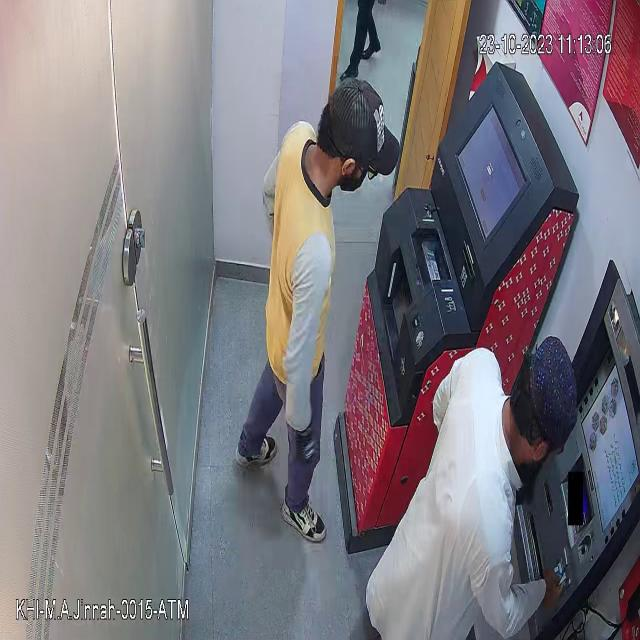atm-card: (553, 556, 571, 593)
